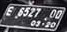plate: (1, 2, 64, 30)
